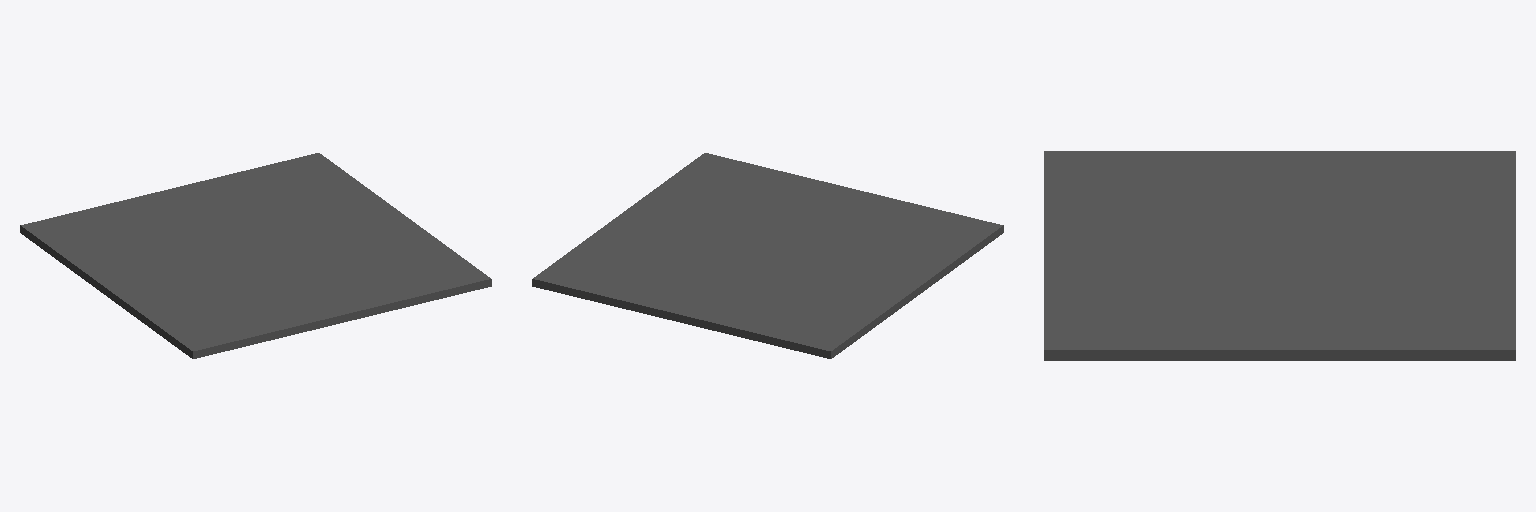
URDF robot description (cuboid.urdf):
<robot name="cuboid.urdf">
  <link name="base_link">
    <contact>
      <lateral_friction value="1.0"/>
      <rolling_friction value="0.0"/>
      <contact_cfm value="0.0"/>
      <contact_erp value="1.0"/>
    </contact>
    <inertial>
      <origin rpy="0 0 0" xyz="0 0 0."/>
       <mass value="1.0"/>
       <inertia ixx="1" ixy="0" ixz="0" iyy="1" iyz="0" izz="1"/>
    </inertial>
    <visual>
      <origin rpy="0 0 0" xyz="0 0 0."/>
      <geometry>
        <box size="0.8 0.8 0.02"/>
      </geometry>
       <material name="dark gray">
        <color rgba="0.4 0.4 0.4 1"/>
      </material>
    </visual>
    <collision>
      <origin rpy="0 0 0" xyz="0 0 0"/>
      <geometry>
        <box size="0.8 0.8 0.02"/>
      </geometry>
    </collision>
  </link>
</robot>

--- What the picture shows (computed from the rendered views, not written in the file) ---
Views: 3 orthographic renders of the robot side by side, from view 1: azimuth 30°, elevation 25°; view 2: azimuth 150°, elevation 25°; view 3: azimuth 270°, elevation 25°.
Robot: cuboid.urdf — 1 links, 0 joints (none); root link base_link; default pose: all joints at 0.
Links seen in each view (by area): view 1: base_link; view 2: base_link; view 3: base_link.
Boxes of the visible links, bbox=[...] form: base_link: bbox=[20, 153, 491, 358]; base_link: bbox=[532, 153, 1003, 358]; base_link: bbox=[1044, 151, 1515, 360].
Size in the robot's own frame: 0.8 by 0.8 by 0.02 metres.
Geometry: primitives only (box / cylinder / sphere), no mesh files.